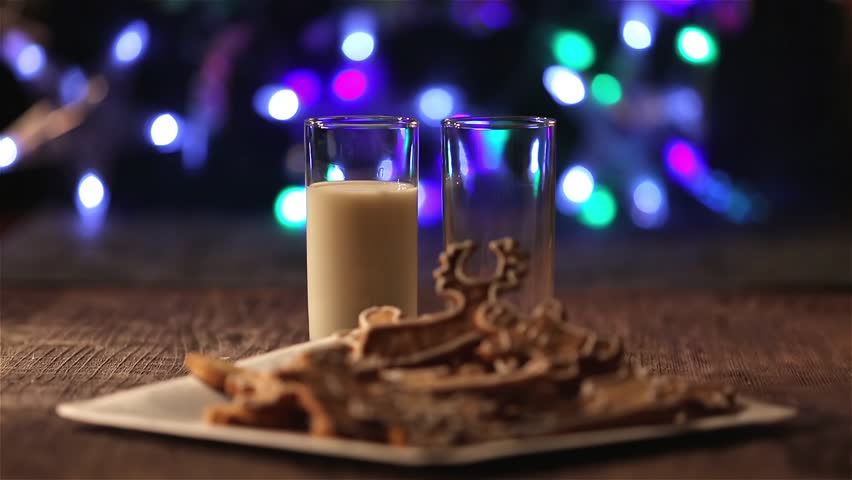glass of milk: (296, 111, 424, 351)
glass of water: (439, 104, 566, 351)
